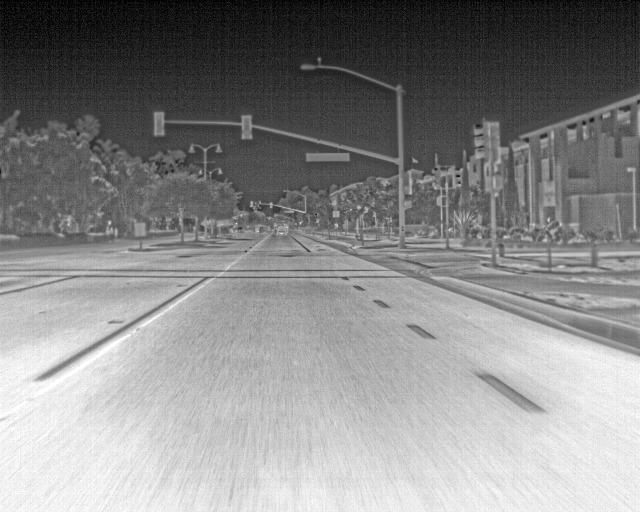car: (275, 225, 288, 235), (259, 226, 269, 233), (255, 225, 263, 233), (237, 227, 244, 233)
light: (474, 124, 486, 158), (156, 113, 163, 134), (243, 117, 250, 137), (402, 173, 409, 192), (453, 171, 461, 187), (494, 175, 503, 189), (432, 169, 439, 186), (404, 201, 412, 208), (436, 197, 441, 205), (250, 201, 253, 207), (270, 203, 272, 208)
sign: (306, 153, 349, 161), (544, 180, 555, 207), (135, 223, 145, 237), (333, 211, 339, 217), (284, 211, 294, 213)
